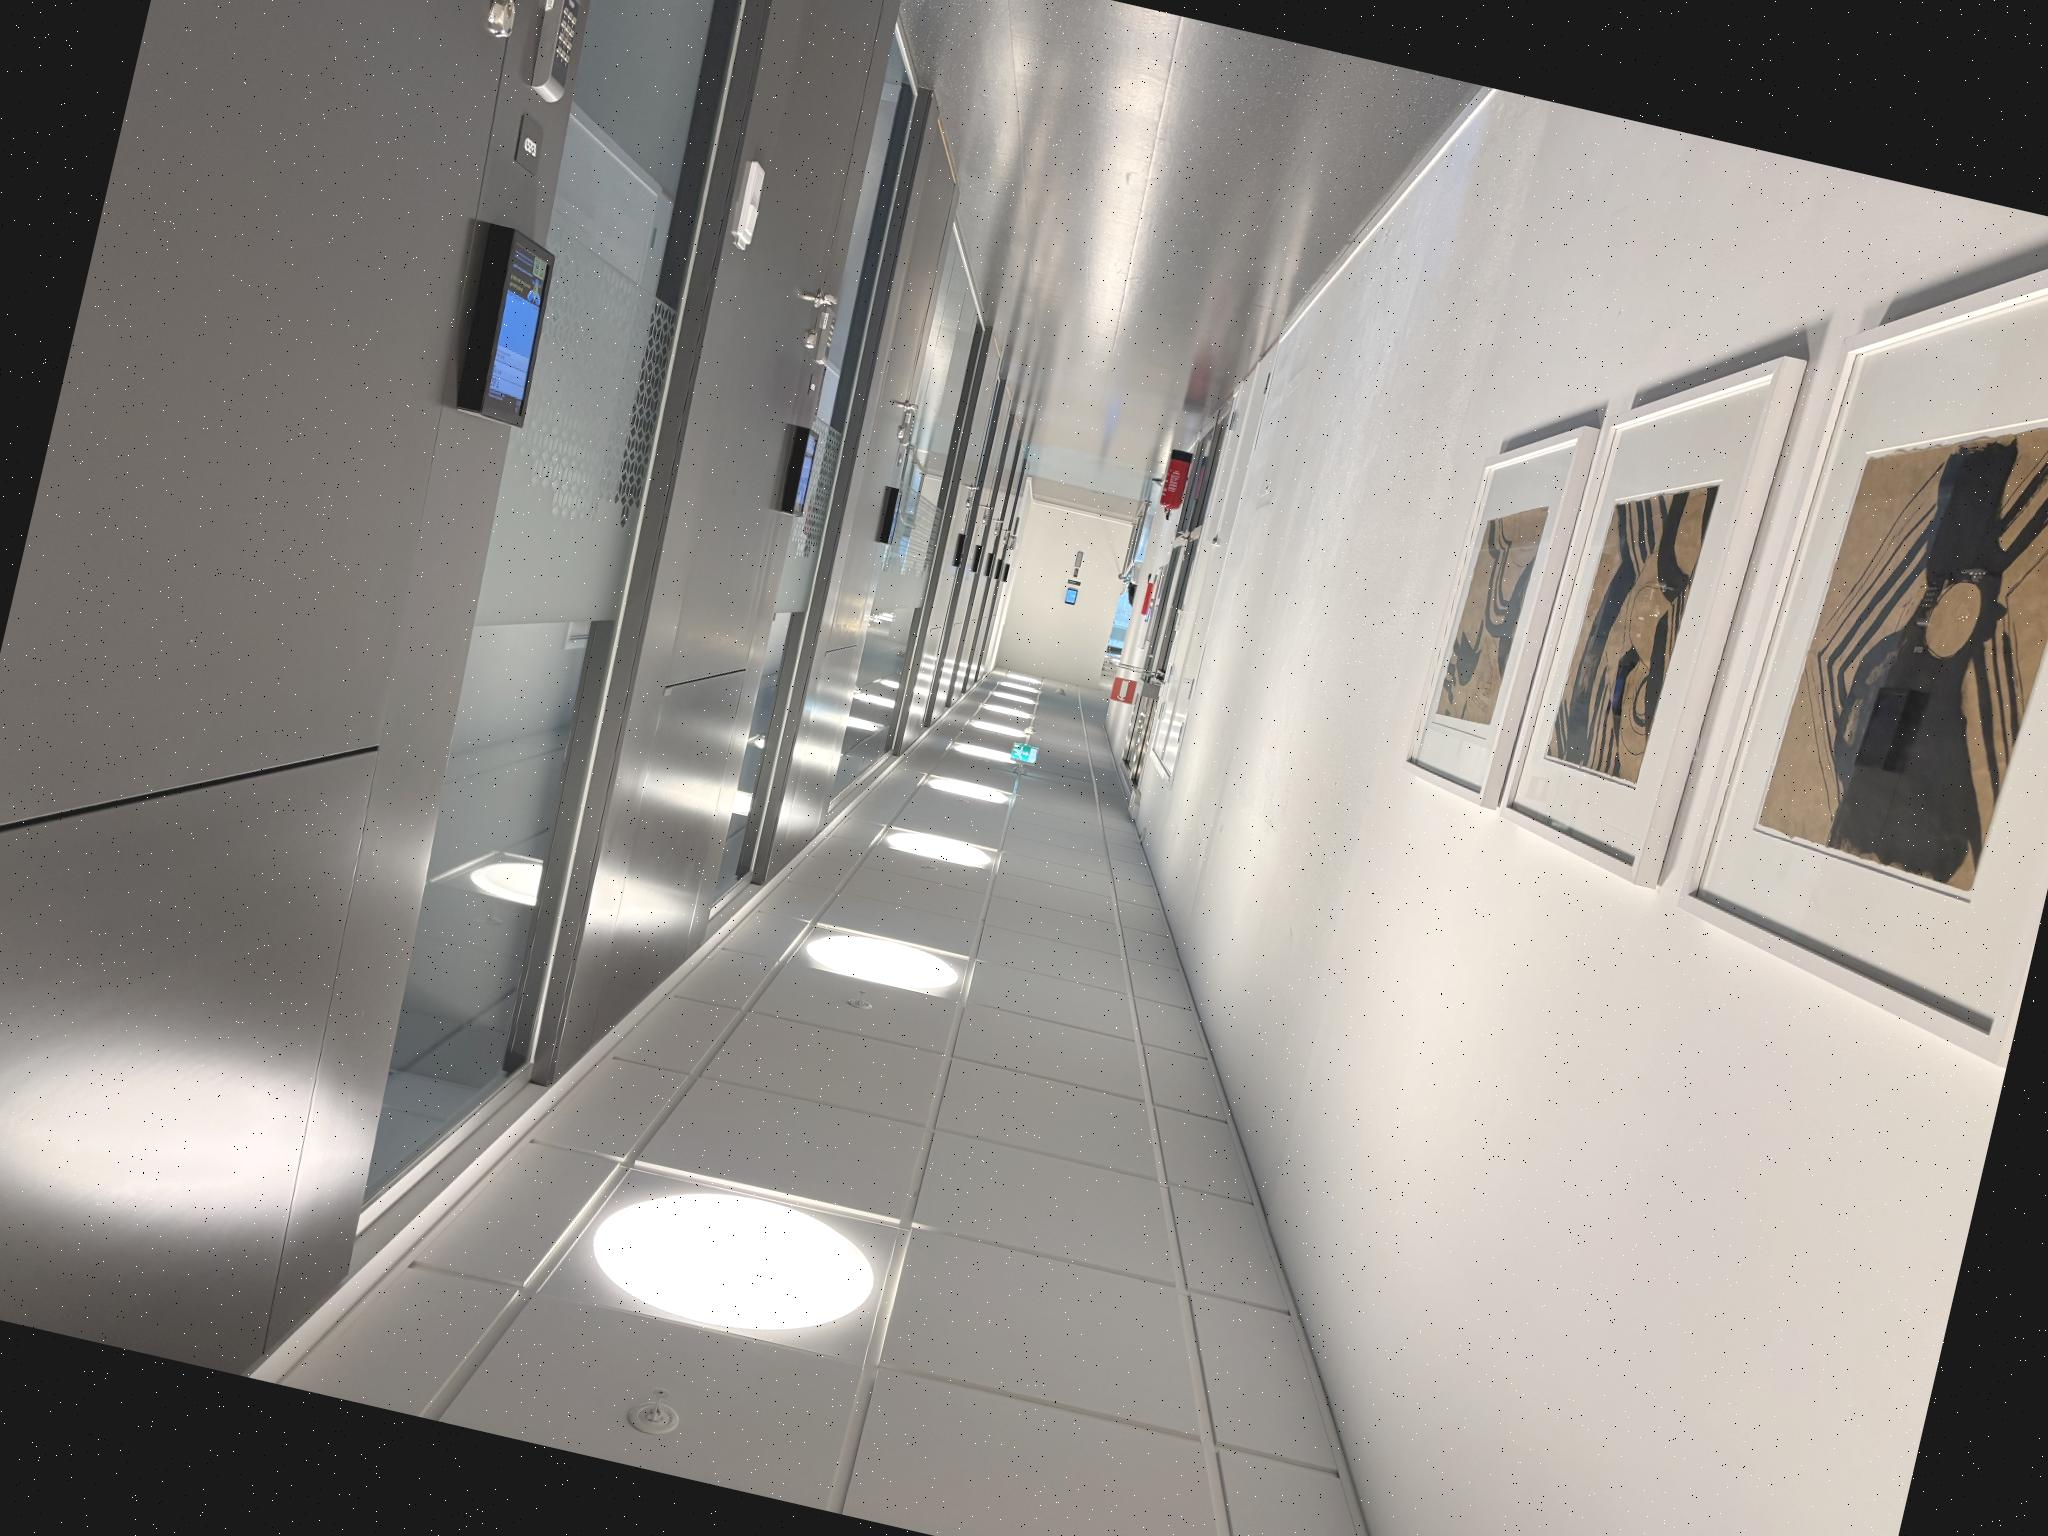exit_sign: (1000, 741, 1042, 774)
